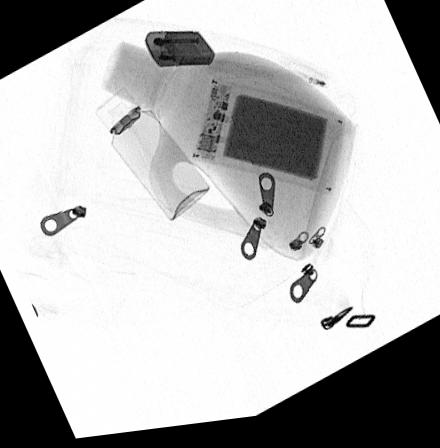Lighter: (145, 35, 216, 71)
Powerbank: (193, 80, 346, 203)
Sprayer: (96, 88, 210, 223)
